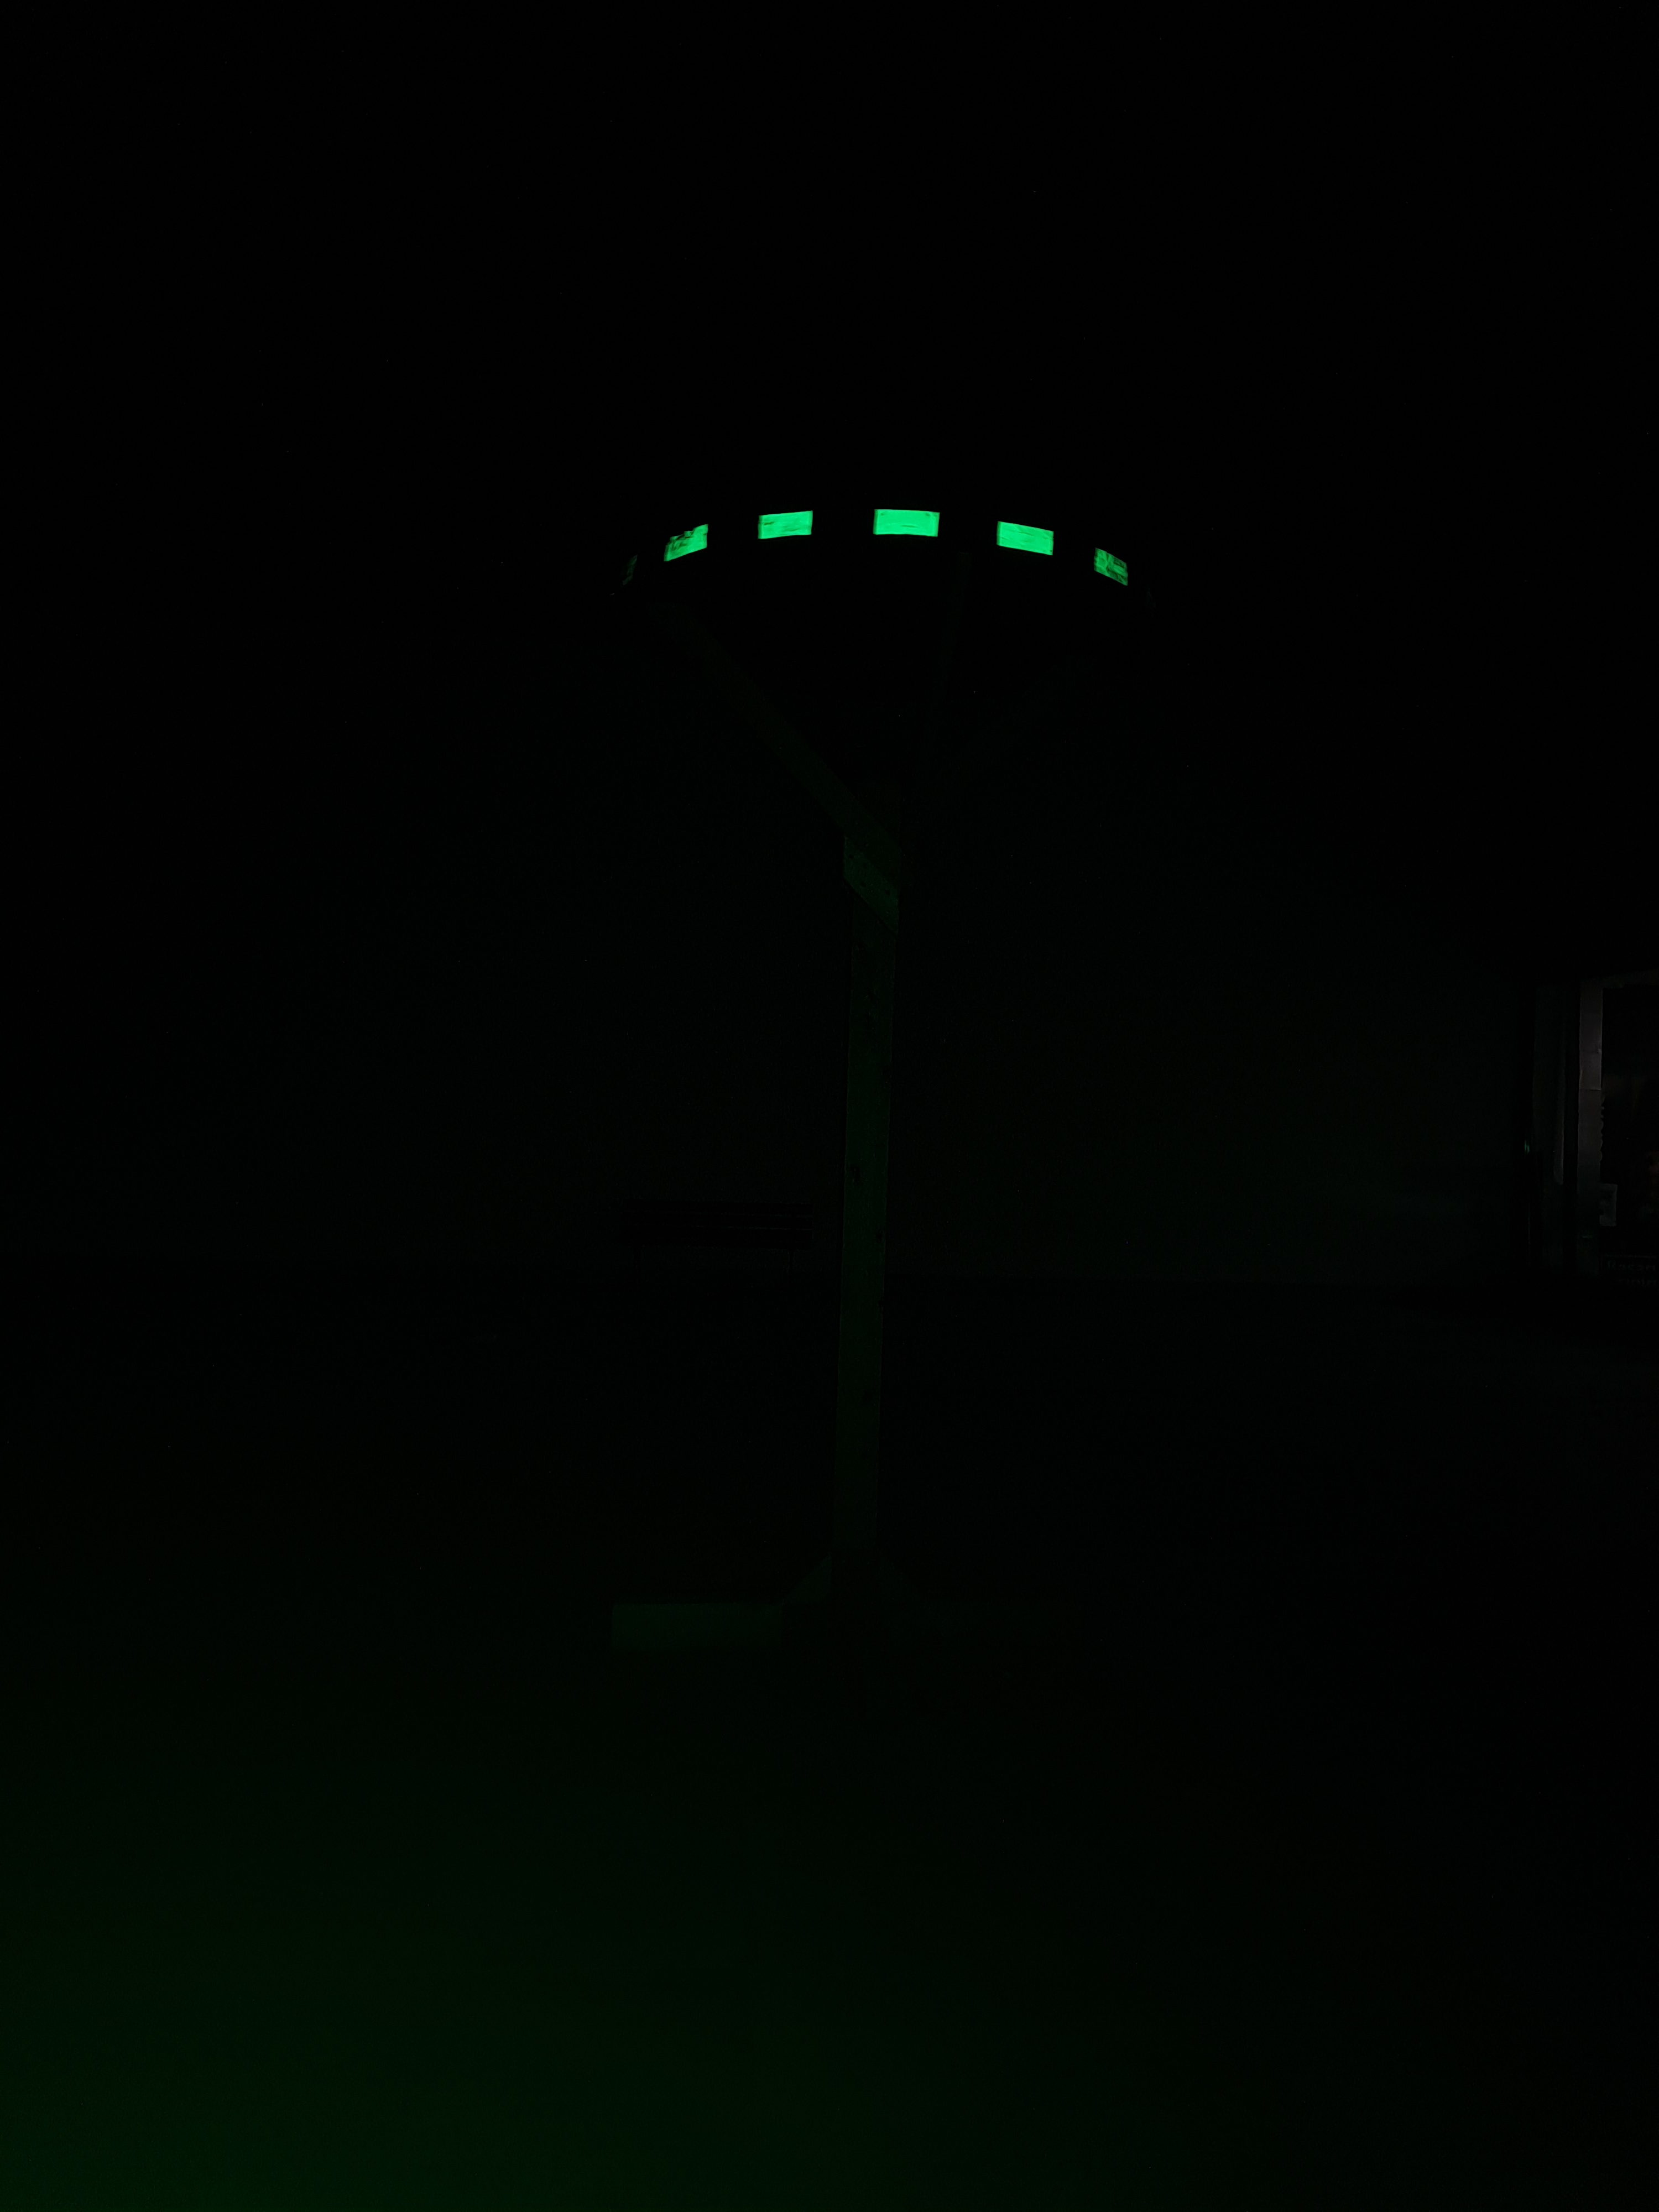hoop: (666, 505, 1127, 583)
